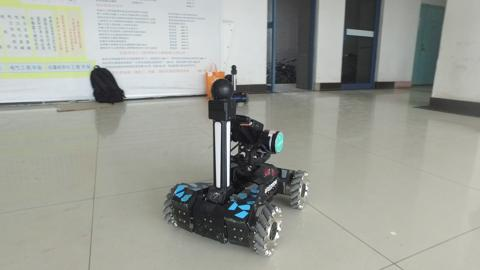bag: (86, 62, 130, 106), (202, 62, 228, 102)
chariot: (160, 76, 310, 258), (219, 65, 253, 106)
